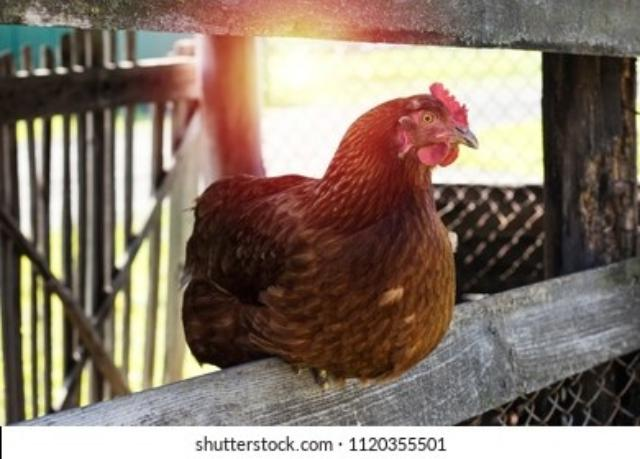Chicken: (181, 79, 480, 382)
